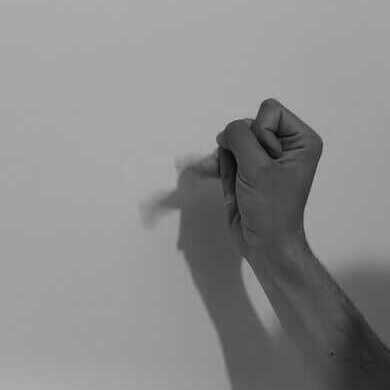J: (173, 97, 328, 254)
